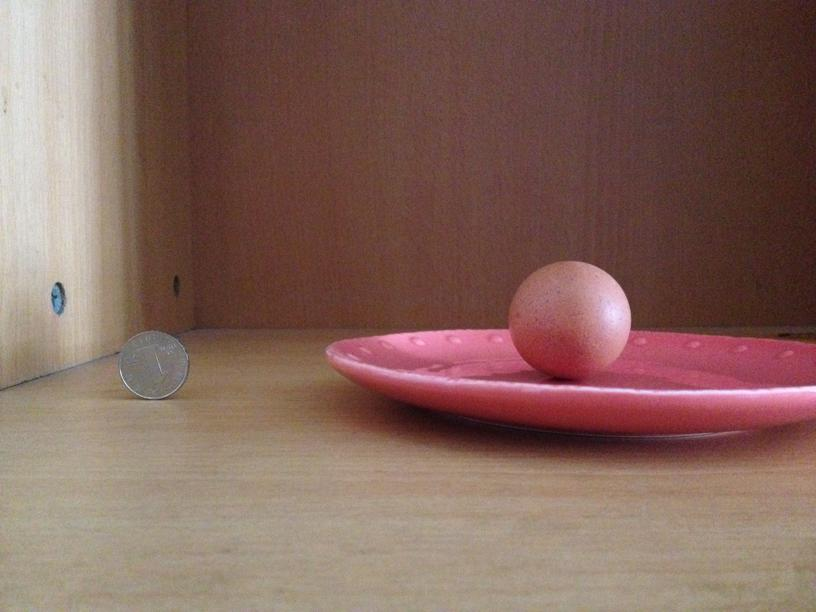coin: (116, 329, 188, 399)
egg: (505, 258, 630, 375)
